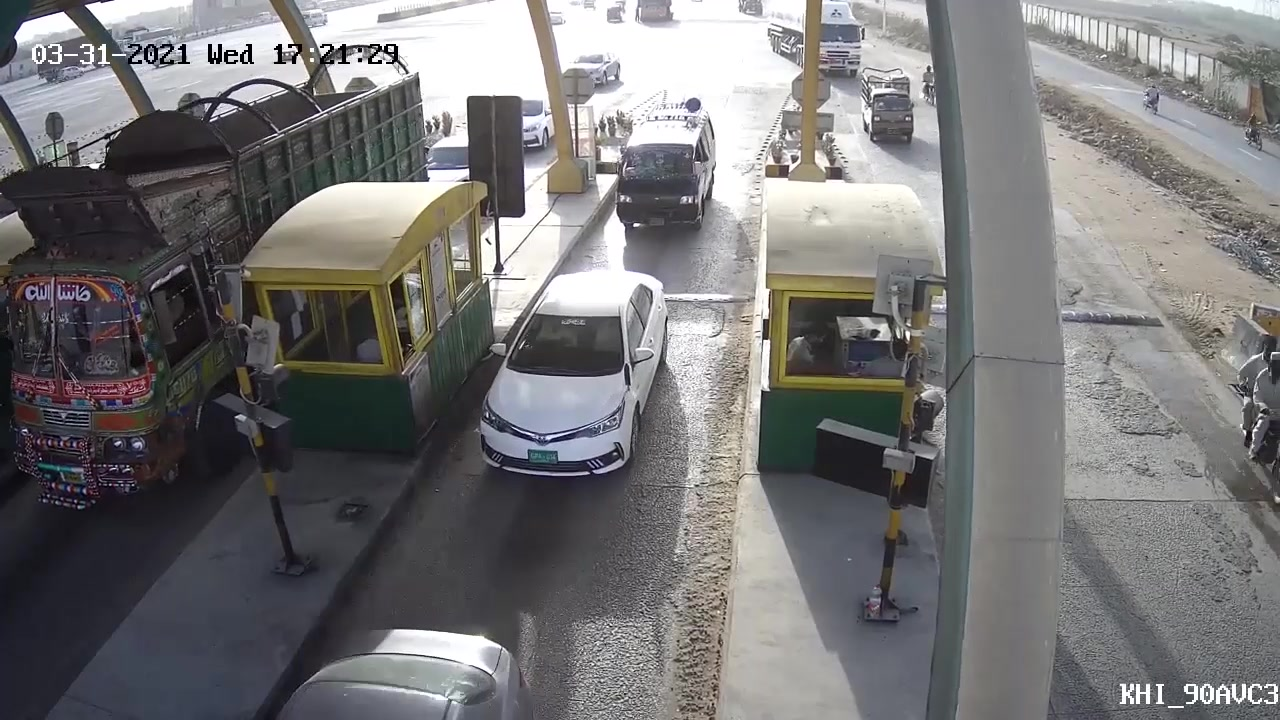F1: (473, 256, 676, 481)
